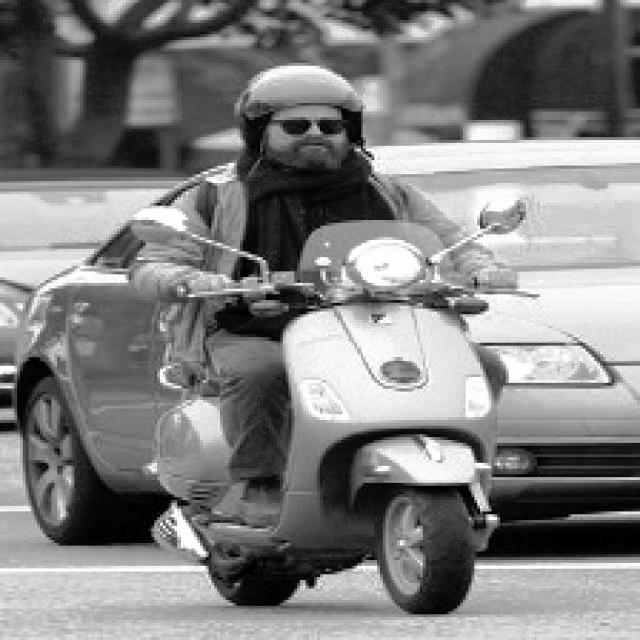Bike: (134, 254, 512, 614)
